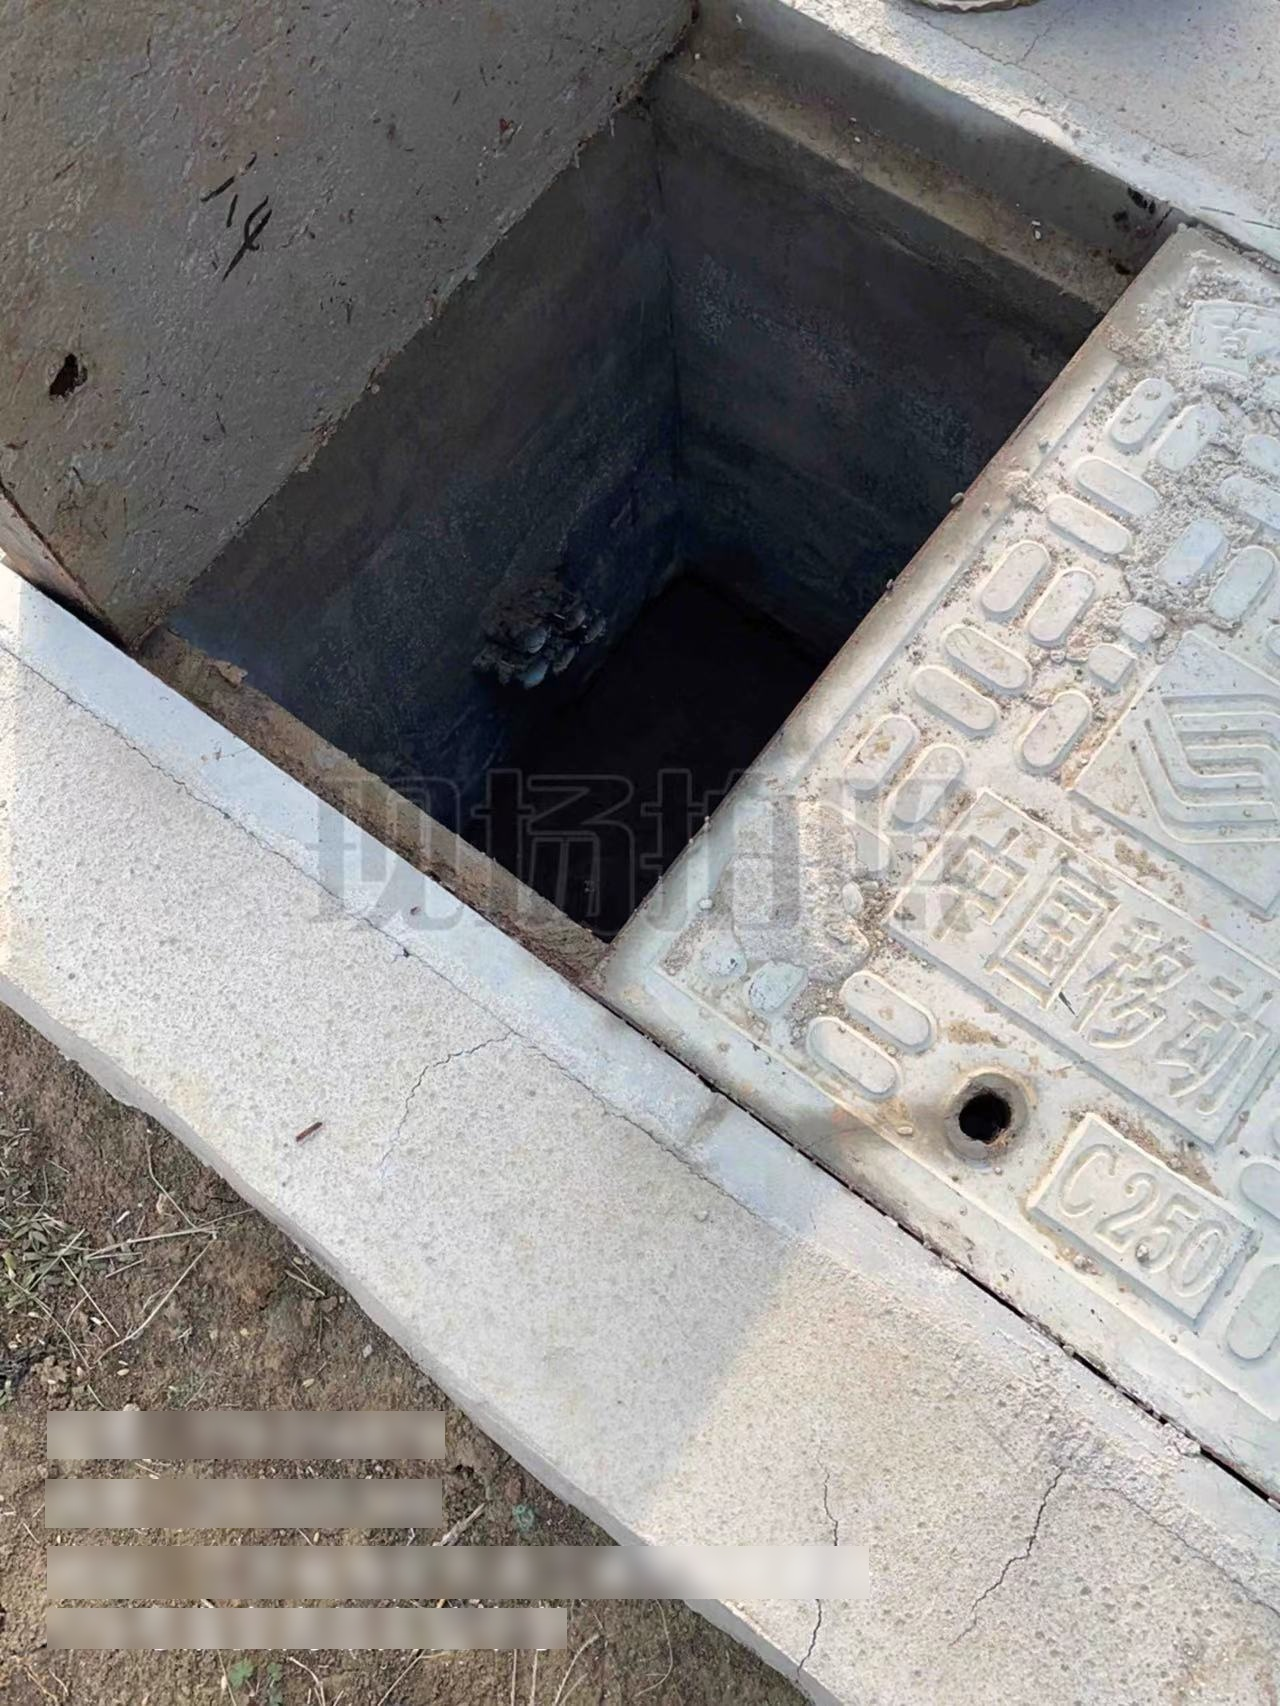uncovered: (5, 1, 1280, 1624)
